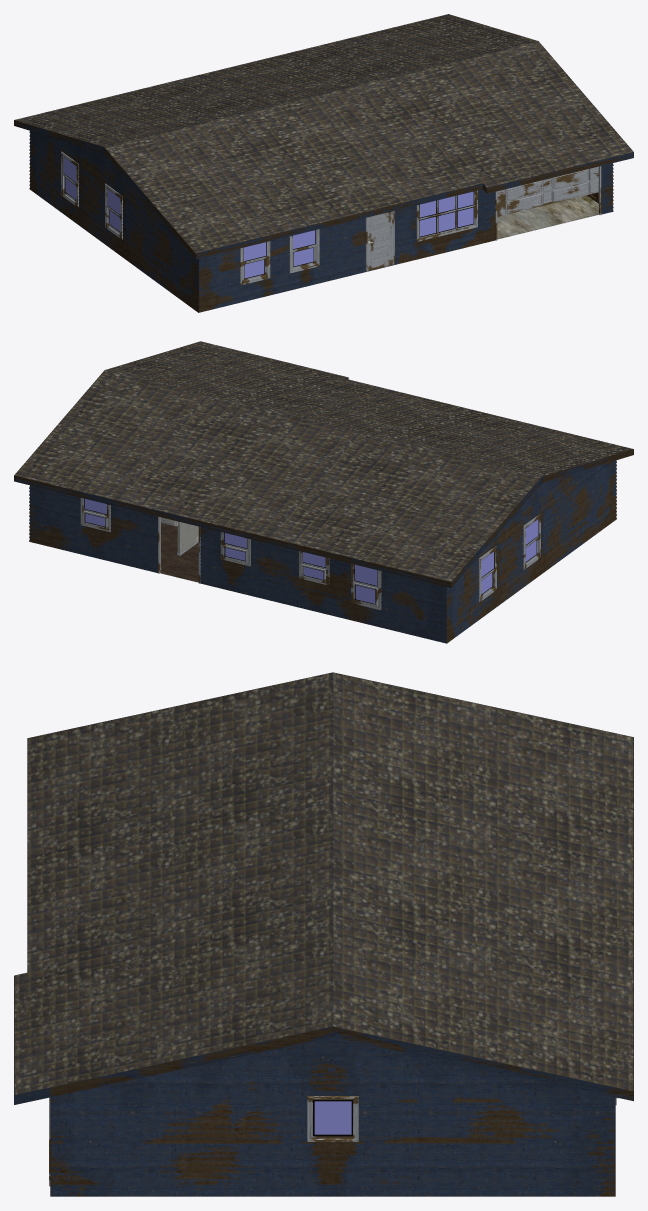
The model's file is AbandonedHouse.fbx.
The picture shows the model from 3 angles, top to bottom: view 1: azimuth 30°, elevation 25°; view 2: azimuth 150°, elevation 25°; view 3: azimuth 270°, elevation 25°; orthographic projection. The views are drawn at different scales.
Parts seen in each view (by area): view 1: Roof_(UV.3), wall.02_(UV.1), RoofFascia_UV.1), Door (UV.7), ground_(UV.3), Window.002, Door, Window.014, Window.015, Window.008, Window.013; view 2: Roof_(UV.3), wall.02_(UV.1), RoofFascia_UV.1), ground_(UV.3), Window.007, Window.011, Window.010, Window.012, Window.008, wall.01_(UV.2), Window.013; view 3: Roof_(UV.3), wall.02_(UV.1), RoofFascia_UV.1), Window.001.
Boxes of the visible parts, box(x1,y1,x2,y2) form: Roof_(UV.3): box(15, 14, 633, 253); wall.02_(UV.1): box(29, 131, 613, 312); RoofFascia_UV.1): box(14, 14, 633, 259); Door (UV.7): box(497, 166, 598, 216); ground_(UV.3): box(497, 195, 598, 239); Window.002: box(419, 191, 475, 239); Door: box(367, 211, 393, 270); Window.014: box(242, 241, 268, 282); Window.015: box(291, 229, 317, 270); Window.008: box(62, 154, 76, 204); Window.013: box(106, 186, 120, 236); Roof_(UV.3): box(14, 341, 633, 581); wall.02_(UV.1): box(29, 460, 616, 643); RoofFascia_UV.1): box(14, 342, 633, 587); ground_(UV.3): box(160, 523, 198, 582); Window.007: box(352, 564, 378, 607); Window.011: box(222, 532, 248, 564); Window.010: box(82, 498, 108, 530); Window.012: box(301, 551, 326, 583); Window.008: box(480, 549, 495, 599); wall.01_(UV.2): box(160, 517, 198, 567); Window.013: box(525, 516, 539, 567); Roof_(UV.3): box(14, 672, 633, 1095); wall.02_(UV.1): box(50, 1037, 615, 1196); RoofFascia_UV.1): box(14, 672, 633, 1104); Window.001: box(310, 1099, 355, 1138).
Size of the model in its own units: 1672 by 391 by 1236.
